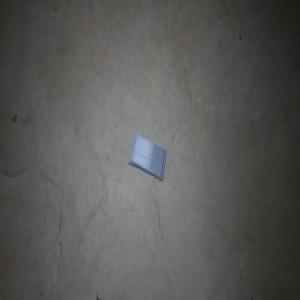PlasticPart: (127, 132, 166, 182)
